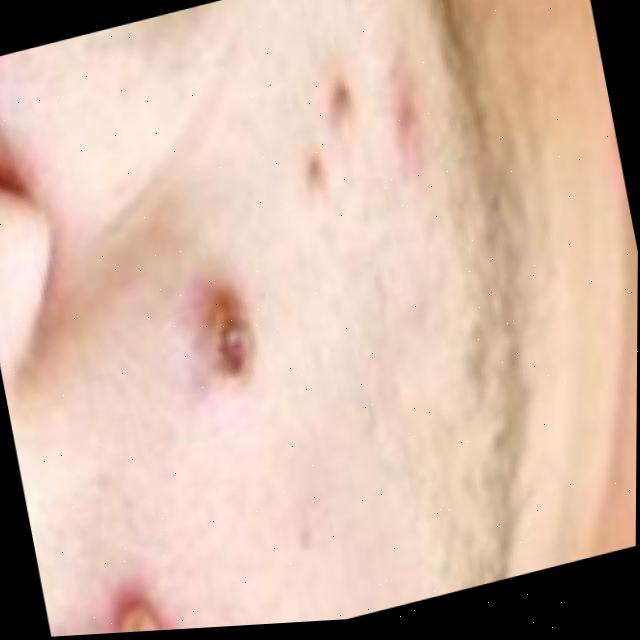Eczema: (290, 67, 443, 190), (208, 297, 255, 364), (108, 601, 176, 633)
